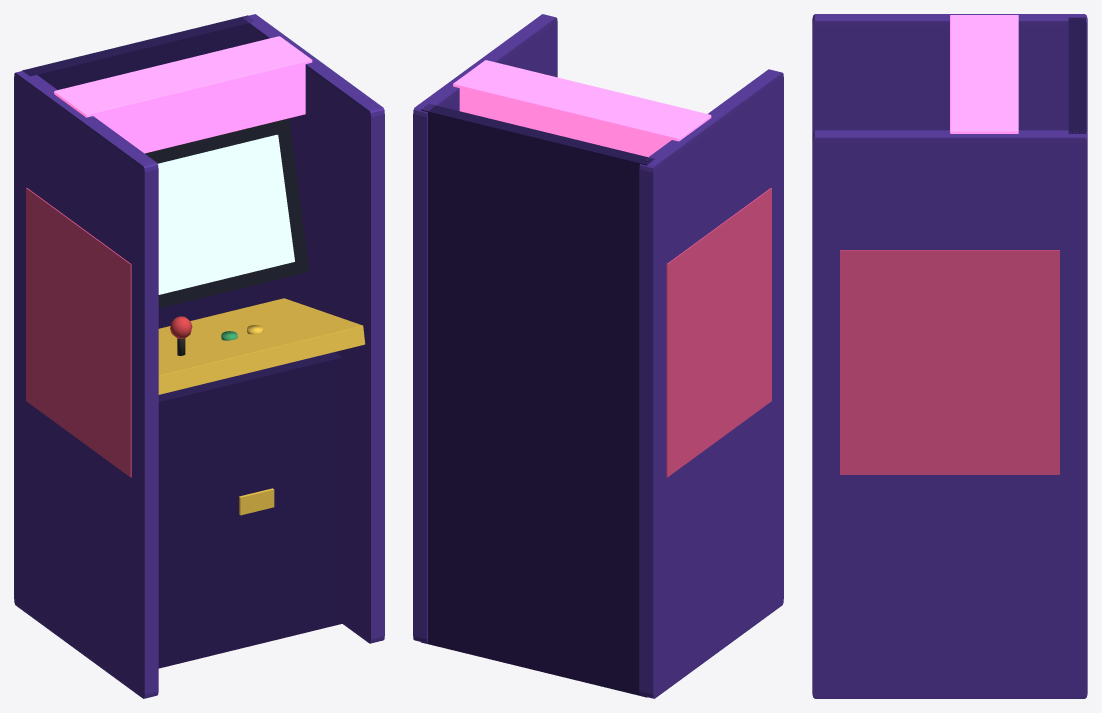
Rendered from arcade.glb.
3 views of the same model, side by side, from view 1: azimuth 30°, elevation 25°; view 2: azimuth 150°, elevation 25°; view 3: azimuth 270°, elevation 25° (orthographic). The views are drawn at different scales.
Parts seen in each view (by area): view 1: arcade; view 2: arcade; view 3: arcade.
Boxes of the visible parts, x1,y1,x2,y2 form: arcade: (14,14,384,698); arcade: (413,14,783,698); arcade: (812,14,1087,698).
Size of the model in its own units: 0.857 by 1.81 by 0.8.
Materials: 3 (3 with a texture image).
